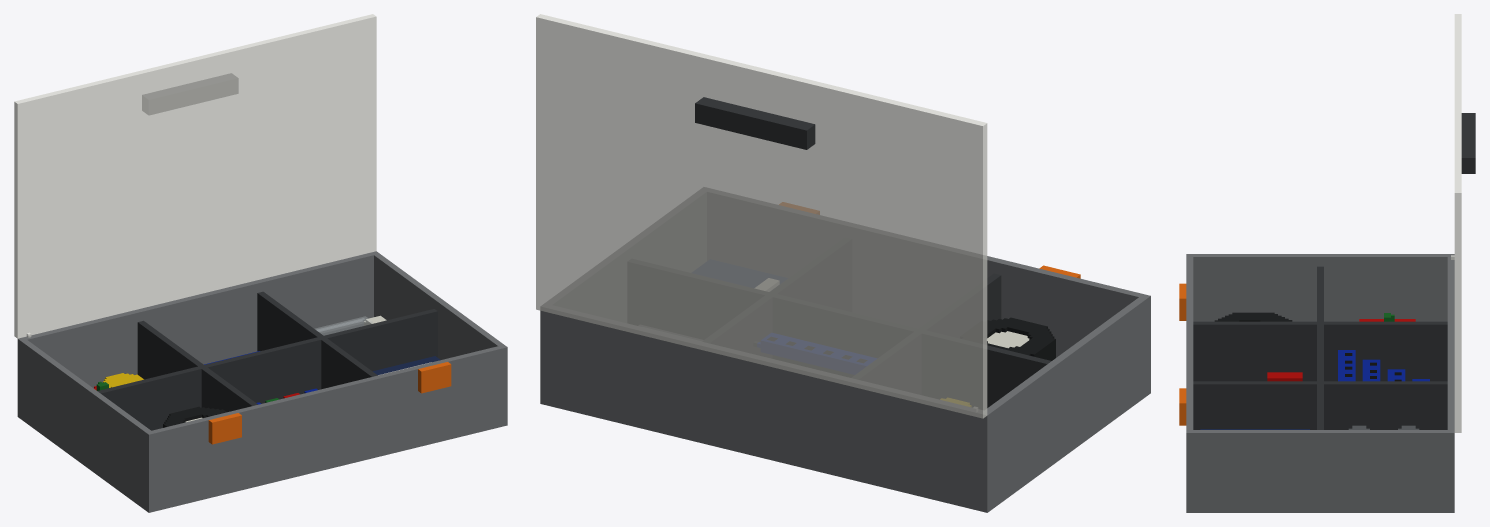
Rendered from engineering_makerspace_kit.glb.
3 renders of one model, left to right at view 1: azimuth 30°, elevation 25°; view 2: azimuth 150°, elevation 25°; view 3: azimuth 270°, elevation 25°, orthographic. The views are drawn at different scales.
Visible parts, largest first — view 1: engineering_makerspace_kit:compound; view 2: engineering_makerspace_kit:compound; view 3: engineering_makerspace_kit:compound.
Part boxes in pixels (bbox=[...]): engineering_makerspace_kit:compound: bbox=[14, 14, 507, 512]; engineering_makerspace_kit:compound: bbox=[536, 14, 1150, 512]; engineering_makerspace_kit:compound: bbox=[1179, 14, 1475, 512].
Bounding box in the file's own units: 0.24 × 0.2 × 0.168.
